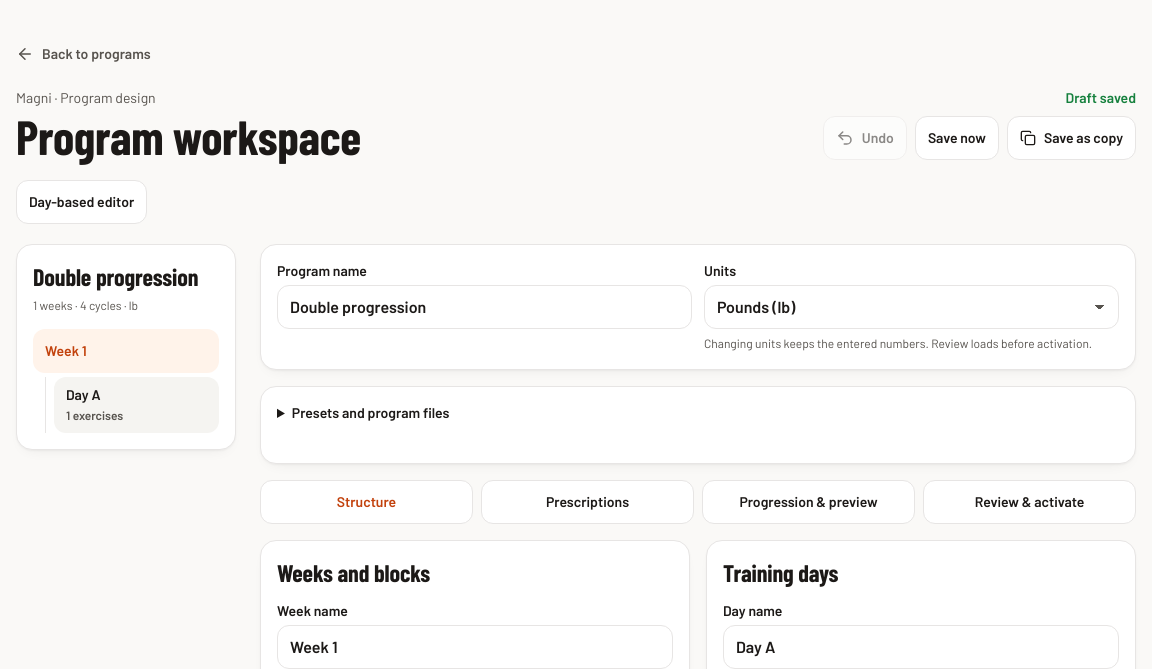
Scenario: program workspace recovery and authoring › reconciles an uncertain lost response before saving an undo
Replace the text in the field labelled "Program name" with "Possibly committed change" at [484, 307], box [277,285,692,329]
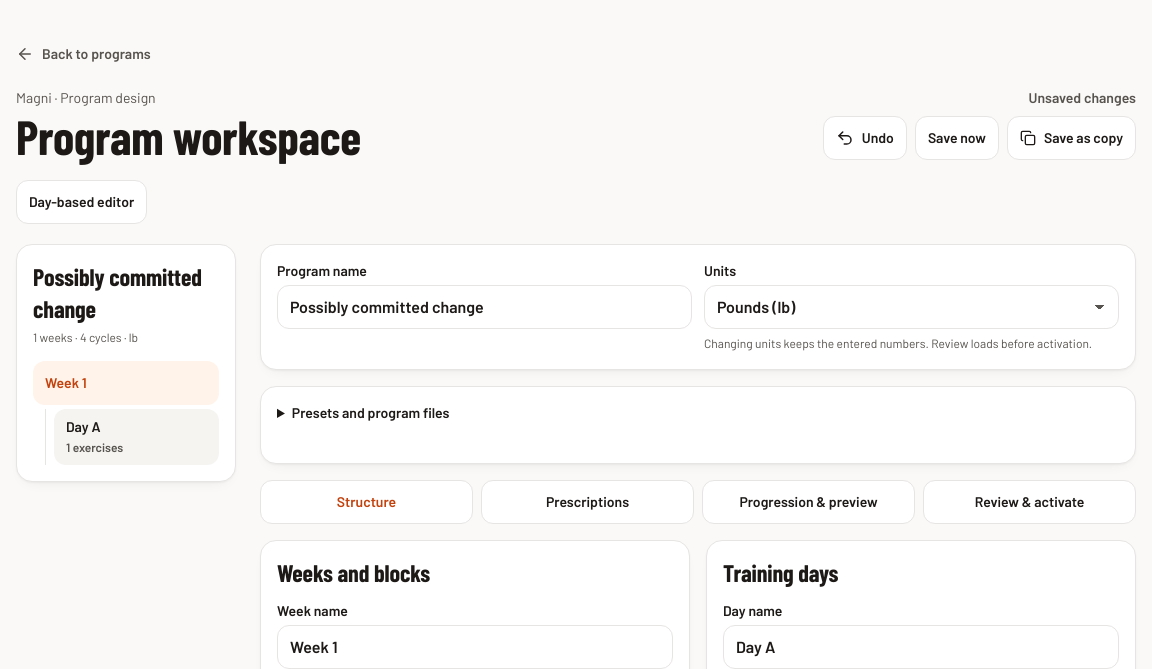
Click the button "Save now" at [957, 138], box [915,116,999,160]
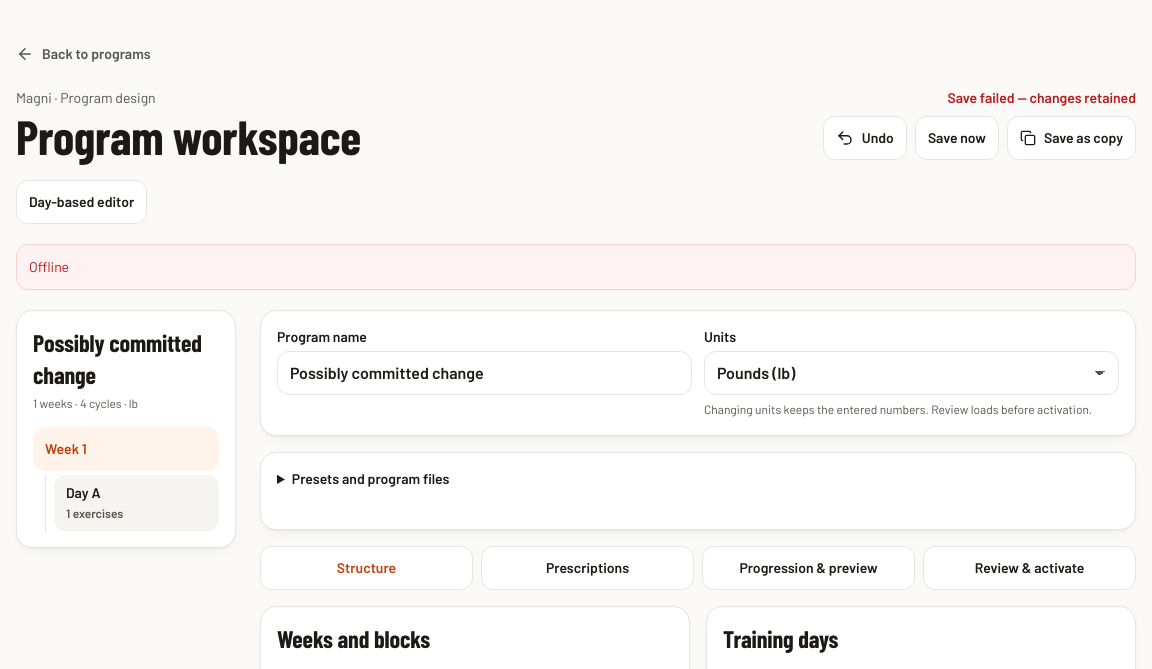
Check: the text "Save failed — changes retained" is shown, box [947,88,1136,108]
Click the button with aria-label "Undo last edit" at [865, 138], box [823,116,907,160]
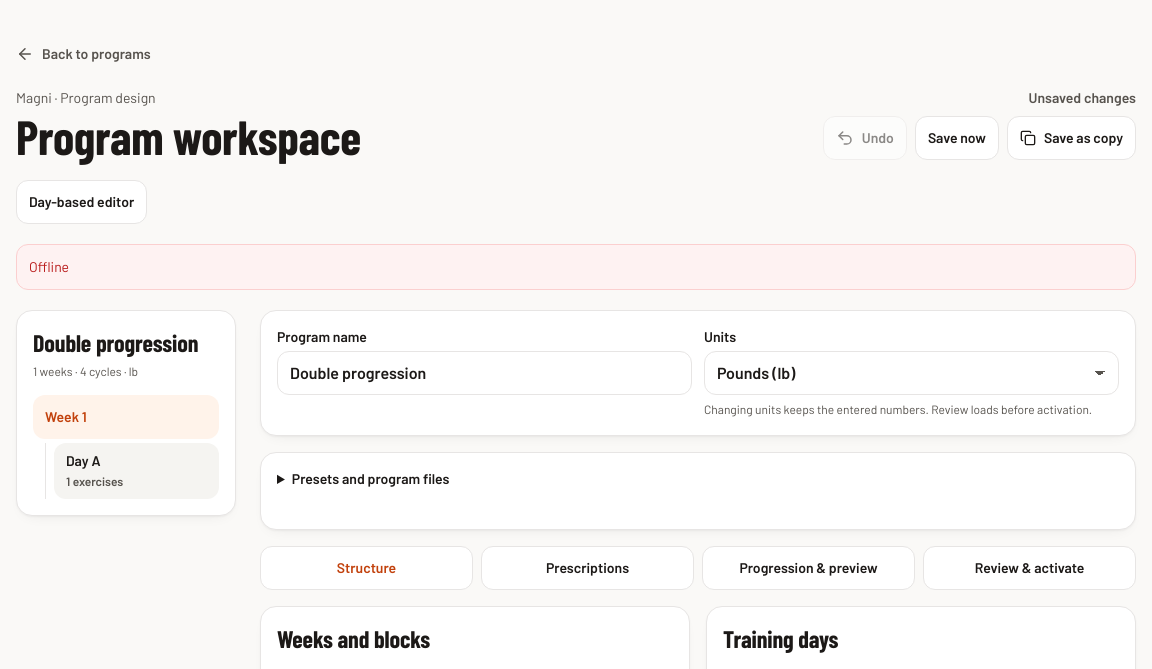
Click the button "Save now" at [957, 138], box [915,116,999,160]
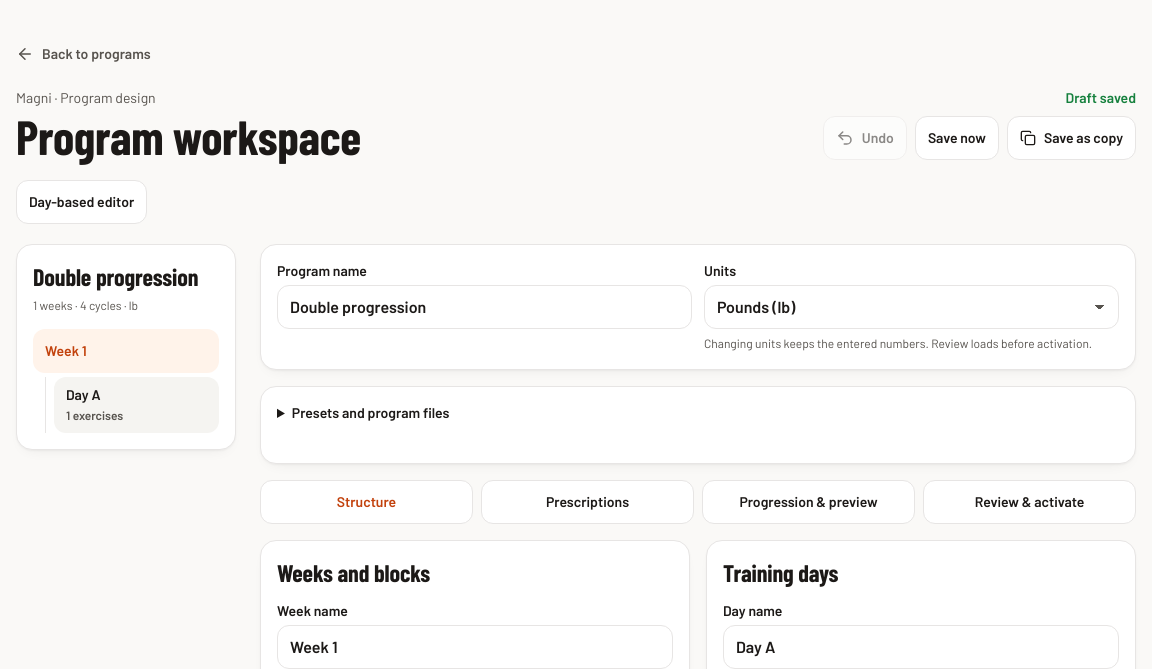
Check: the text "Draft saved" is shown, box [1066,88,1136,108]
